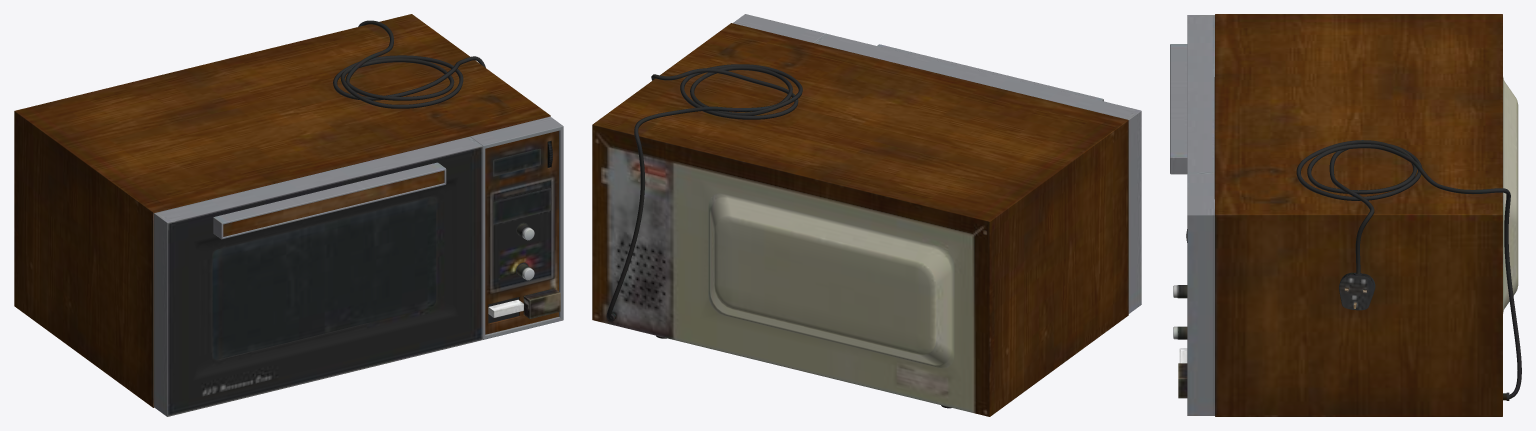
3 views of the same model, side by side, from view 1: azimuth 30°, elevation 25°; view 2: azimuth 150°, elevation 25°; view 3: azimuth 270°, elevation 25° (orthographic). The views are drawn at different scales.
Parts seen in each view (by area): view 1: vintage_microwave; view 2: vintage_microwave; view 3: vintage_microwave.
Boxes of the visible parts, bbox=[...] form: vintage_microwave: bbox=[14, 14, 563, 416]; vintage_microwave: bbox=[592, 14, 1141, 416]; vintage_microwave: bbox=[1170, 14, 1521, 416].
Size of the model in its own units: 1.07 by 0.5258 by 0.7456.
Materials: 2 (2 with a texture image).
